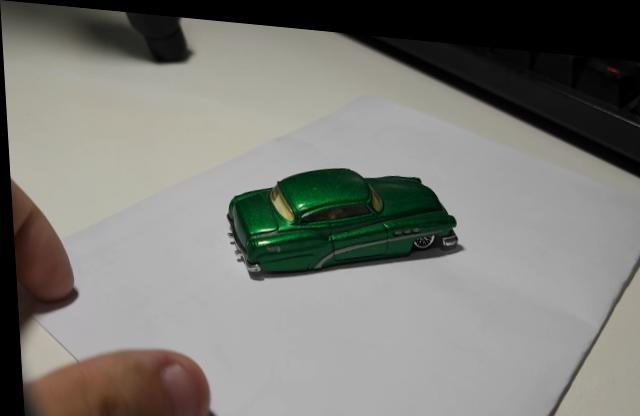06_MASERATI: (226, 163, 461, 277)
